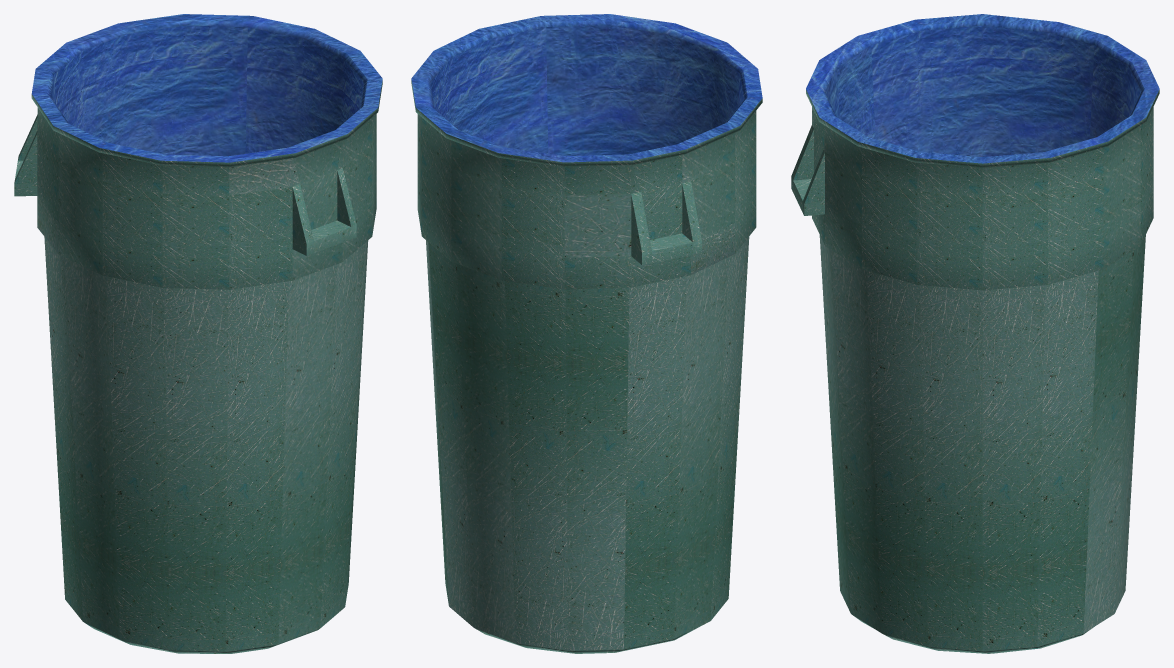
File: Trashcan2.fbx
3 renders of one model, left to right at view 1: azimuth 30°, elevation 25°; view 2: azimuth 150°, elevation 25°; view 3: azimuth 270°, elevation 25°, orthographic.
Visible parts, largest first — view 1: pCylinder1; view 2: pCylinder1; view 3: pCylinder1.
Part boxes in pixels (x1,y1,x2,y2): pCylinder1: (14,14,382,653); pCylinder1: (411,14,762,653); pCylinder1: (791,14,1159,653).
Size of the model in its own units: 19.81 by 31.37 by 20.6.
